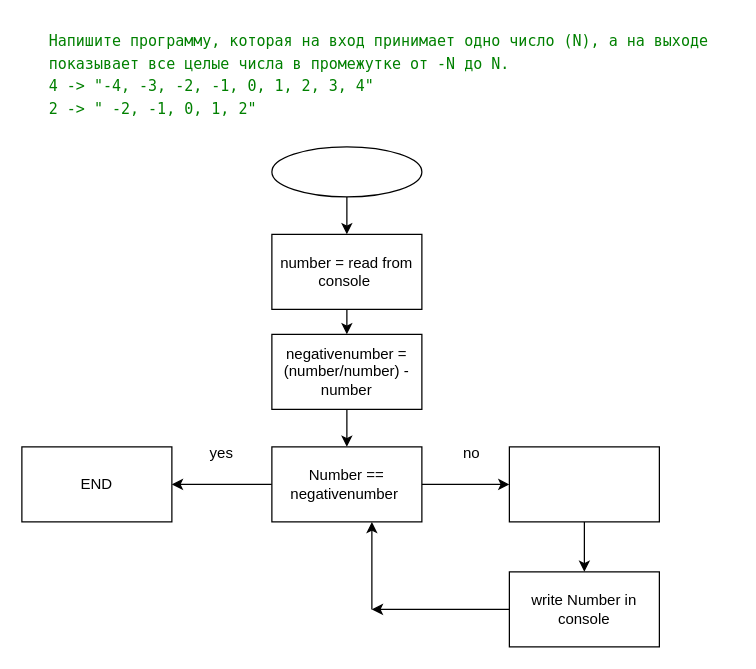
This 756x669 diagram has some shape labels left out. Each missing label, with the centre of its shape:
"number - 1" goes at (x=583, y=484).
"start" goes at (x=346, y=171).
